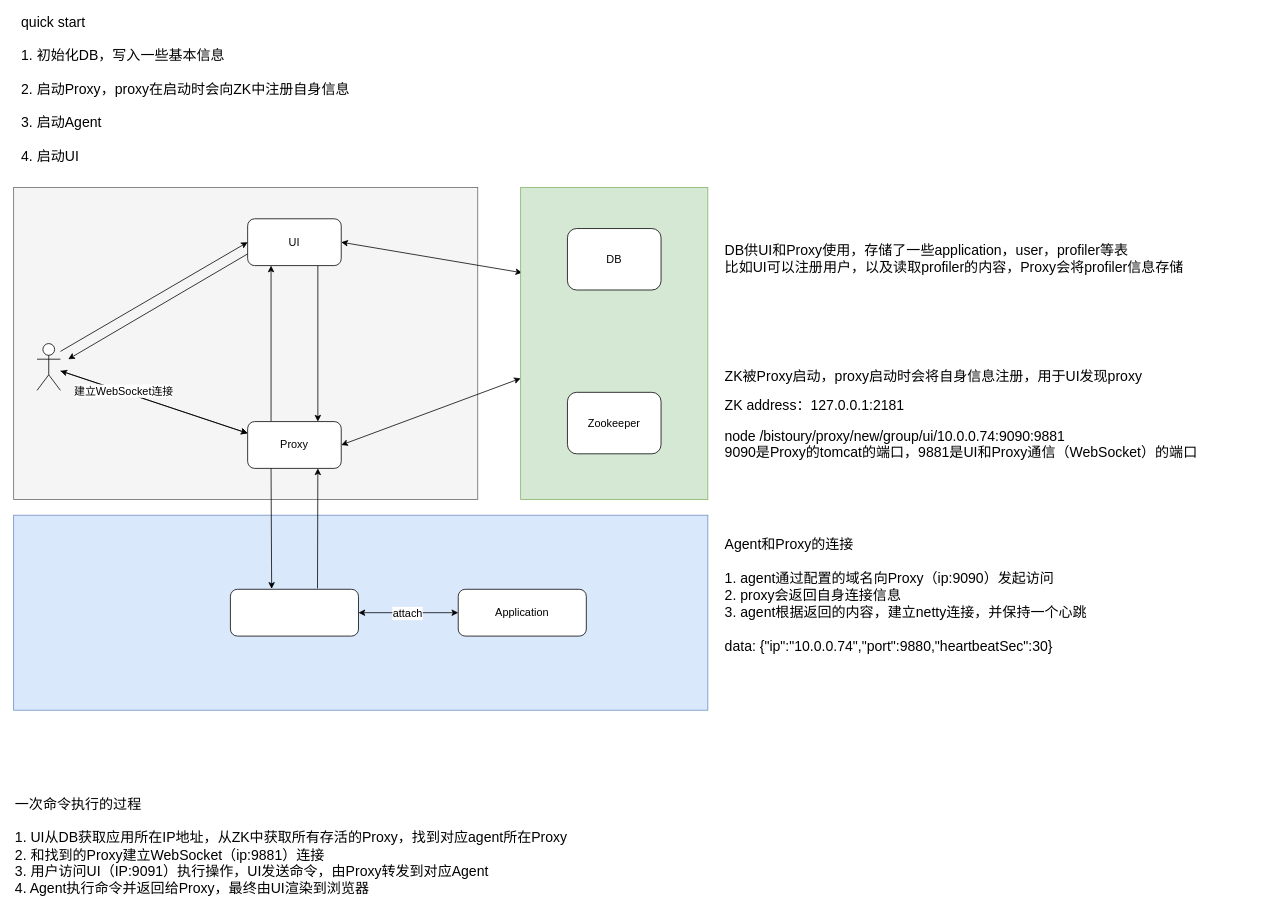
Some shapes in this 1268 by 910 pixel diagram are drawn without their labels. Each missing label, with the centre of its shape:
Actor: the point at 48,366
Agent: the point at 294,612
